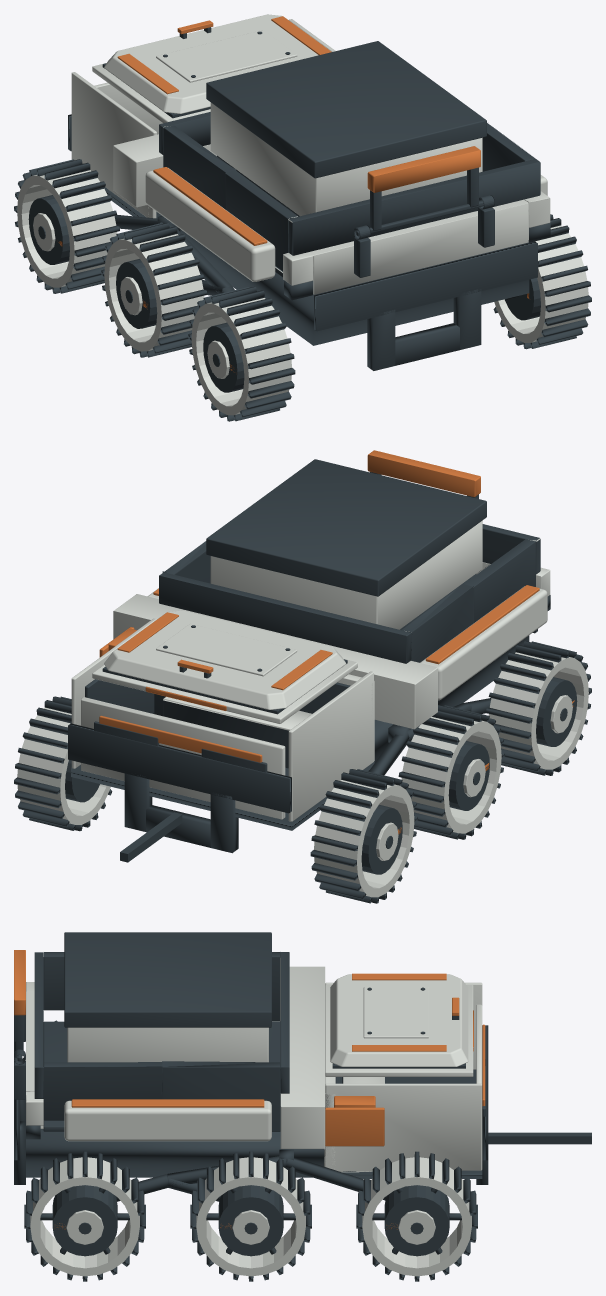
The model's file is tuoyun-hf-mvp-r1.glb.
3 views of the same model, one above another, from view 1: azimuth 30°, elevation 25°; view 2: azimuth 150°, elevation 25°; view 3: azimuth 270°, elevation 25° (orthographic). The views are drawn at different scales.
Parts seen in each view (by area): view 1: CargoBox, Body, Chassis, Wheel_LR, Wheel_LF, Wheel_LM, Wheel_RR, Formed_service_cover, Head, Deck_side_shell_-1, RearLock, Lid_inset_plate (+8 smaller); view 2: CargoBox, Body, Head, Chassis, Wheel_LF, Wheel_LR, Wheel_LM, Formed_service_cover, Wheel_RF, Deck_side_shell_-1, Lid_inset_plate, ProtectedElectronics (+10 smaller); view 3: CargoBox, Body, Head, Wheel_RR, Wheel_RF, Wheel_RM, Chassis, Formed_service_cover, Deck_side_shell_1, Lid_inset_plate, ChargeCap, HoodLid (+10 smaller).
Part boxes in pixels (x1=…): CargoBox: x1=206, y1=41, x2=486, y2=216; Body: x1=113, y1=112, x2=550, y2=294; Chassis: x1=68, y1=114, x2=550, y2=370; Wheel_LR: x1=188, y1=287, x2=295, y2=421; Wheel_LF: x1=14, y1=159, x2=119, y2=293; Wheel_LM: x1=101, y1=223, x2=207, y2=357; Wheel_RR: x1=493, y1=214, x2=591, y2=349; Formed_service_cover: x1=104, y1=14, x2=325, y2=113; Head: x1=71, y1=19, x2=335, y2=218; Deck_side_shell_-1: x1=145, y1=168, x2=275, y2=281; RearLock: x1=356, y1=146, x2=483, y2=236; Lid_inset_plate: x1=156, y1=30, x2=297, y2=82; CargoBox: x1=206, y1=459, x2=486, y2=631; Body: x1=113, y1=524, x2=550, y2=729; Head: x1=71, y1=618, x2=374, y2=821; Chassis: x1=68, y1=595, x2=550, y2=853; Wheel_LF: x1=310, y1=769, x2=417, y2=903; Wheel_LR: x1=486, y1=641, x2=591, y2=775; Wheel_LM: x1=398, y1=705, x2=504, y2=839; Formed_service_cover: x1=104, y1=610, x2=346, y2=709; Wheel_RF: x1=14, y1=696, x2=112, y2=831; Deck_side_shell_-1: x1=420, y1=586, x2=547, y2=700; Lid_inset_plate: x1=156, y1=623, x2=297, y2=676; ProtectedElectronics: x1=163, y1=696, x2=311, y2=768; CargoBox: x1=64, y1=932, x2=271, y2=1062; Body: x1=14, y1=952, x2=325, y2=1148; Head: x1=324, y1=982, x2=485, y2=1172; Wheel_RR: x1=24, y1=1151, x2=145, y2=1281; Wheel_RF: x1=356, y1=1151, x2=477, y2=1281; Wheel_RM: x1=190, y1=1151, x2=311, y2=1281; Chassis: x1=14, y1=1025, x2=488, y2=1184; Formed_service_cover: x1=330, y1=974, x2=468, y2=1066; Deck_side_shell_1: x1=64, y1=1100, x2=271, y2=1141; Lid_inset_plate: x1=363, y1=987, x2=428, y2=1038; ChargeCap: x1=325, y1=1107, x2=384, y2=1146; HoodLid: x1=325, y1=985, x2=473, y2=1076.
Bounding box in the file's own units: 1.29 × 0.86 × 1.95.
